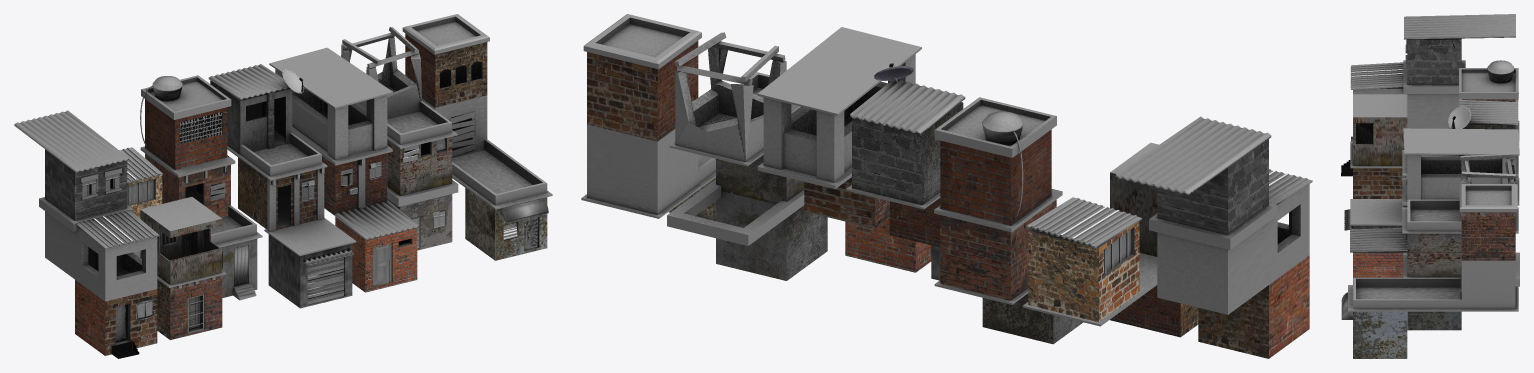
File: ModularSlums.fbx
3 renders of one model, left to right at view 1: azimuth 30°, elevation 25°; view 2: azimuth 150°, elevation 25°; view 3: azimuth 270°, elevation 25°, orthographic. The views are drawn at different scales.
Parts seen in each view (by area): view 1: C1, G1, F5, D3, F6, A4, A6, G4, B2, F2, G3, A2 (+23 smaller); view 2: C1, G1, F5, E1, D2, B2, G2, B3, A2, F6, F1, E5 (+18 smaller); view 3: C1, G1, G3, D3, G4, G2, F1, F2, E3, E2, B1, F5 (+16 smaller).
Boxes of the visible parts, x1,y1,x2,y2 form: C1: (269, 47, 392, 160); G1: (402, 14, 489, 107); F5: (45, 211, 157, 301); D3: (140, 197, 222, 284); F6: (75, 280, 157, 358); A4: (238, 157, 324, 231); A6: (268, 234, 353, 308); G4: (465, 188, 548, 260); B2: (145, 99, 227, 169); F2: (45, 149, 127, 220); G3: (452, 139, 552, 209); A2: (210, 69, 303, 154); C1: (757, 27, 921, 182); G1: (583, 14, 701, 141); F5: (1157, 184, 1309, 314); E1: (675, 32, 786, 161); D2: (1028, 221, 1139, 322); B2: (940, 129, 1051, 225); G2: (587, 124, 698, 214); B3: (934, 189, 1062, 300); A2: (852, 63, 963, 205); F6: (1198, 255, 1309, 358); F1: (1115, 116, 1271, 195); E5: (716, 191, 827, 280); C1: (1403, 128, 1519, 199); G1: (1459, 184, 1517, 260); G3: (1348, 277, 1518, 311); D3: (1353, 94, 1407, 165); G4: (1341, 292, 1407, 358); G2: (1460, 256, 1515, 309); F1: (1404, 14, 1515, 39); F2: (1405, 38, 1461, 84); E3: (1407, 233, 1461, 277); E2: (1402, 199, 1518, 233); B1: (1459, 60, 1518, 99); F5: (1353, 87, 1459, 128).
Size of the model in its own units: 17.25 by 6.75 by 6.59.
